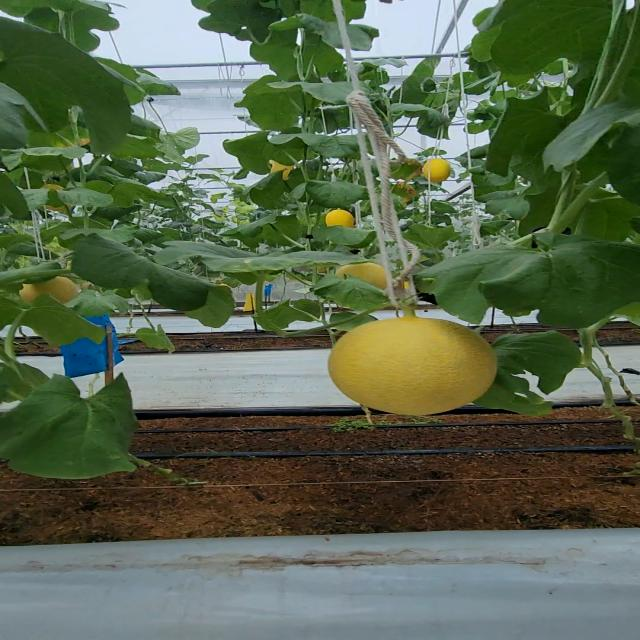Front-melon: (329, 316, 498, 416)
Rear-melon: (28, 277, 77, 303), (426, 158, 450, 184)
